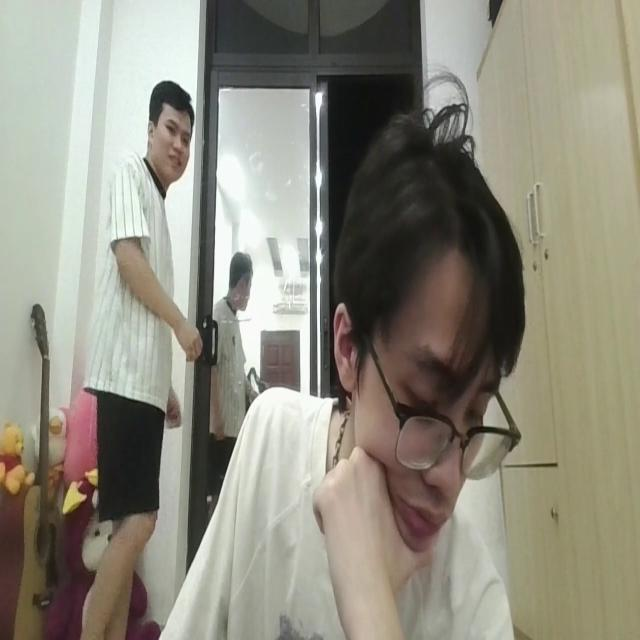extra_person: (87, 77, 191, 640)
student: (158, 113, 522, 640)
